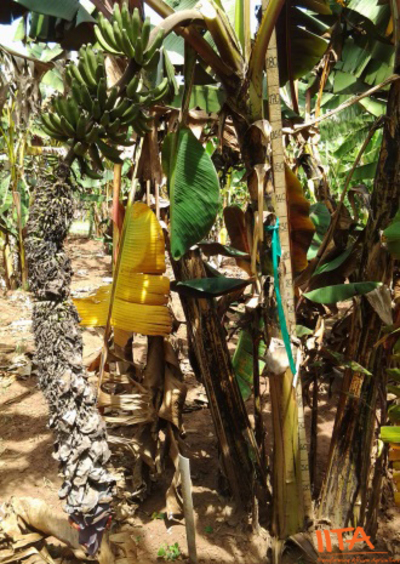bananaHand: (34, 2, 177, 182)
